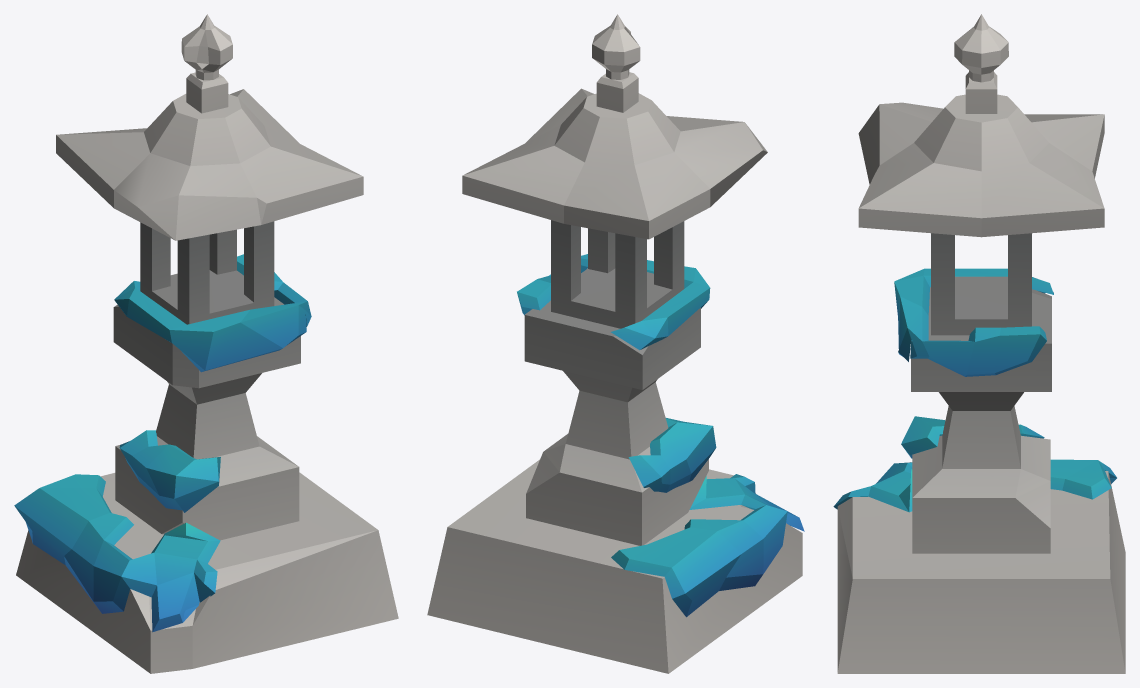
File: m_StoneLanternSquareMoss.fbx
The picture shows the model from 3 angles, left to right: view 1: azimuth 30°, elevation 25°; view 2: azimuth 150°, elevation 25°; view 3: azimuth 270°, elevation 25°; orthographic projection. The views are drawn at different scales.
Parts seen in each view (by area): view 1: StoneLanternSquareMoss; view 2: StoneLanternSquareMoss; view 3: StoneLanternSquareMoss.
Boxes of the visible parts, left/top/right/bottom form: StoneLanternSquareMoss: left=14, top=14, right=398, bottom=673; StoneLanternSquareMoss: left=427, top=14, right=804, bottom=673; StoneLanternSquareMoss: left=833, top=14, right=1125, bottom=673.
Bounding box in the file's own units: 106 × 235 × 104.
